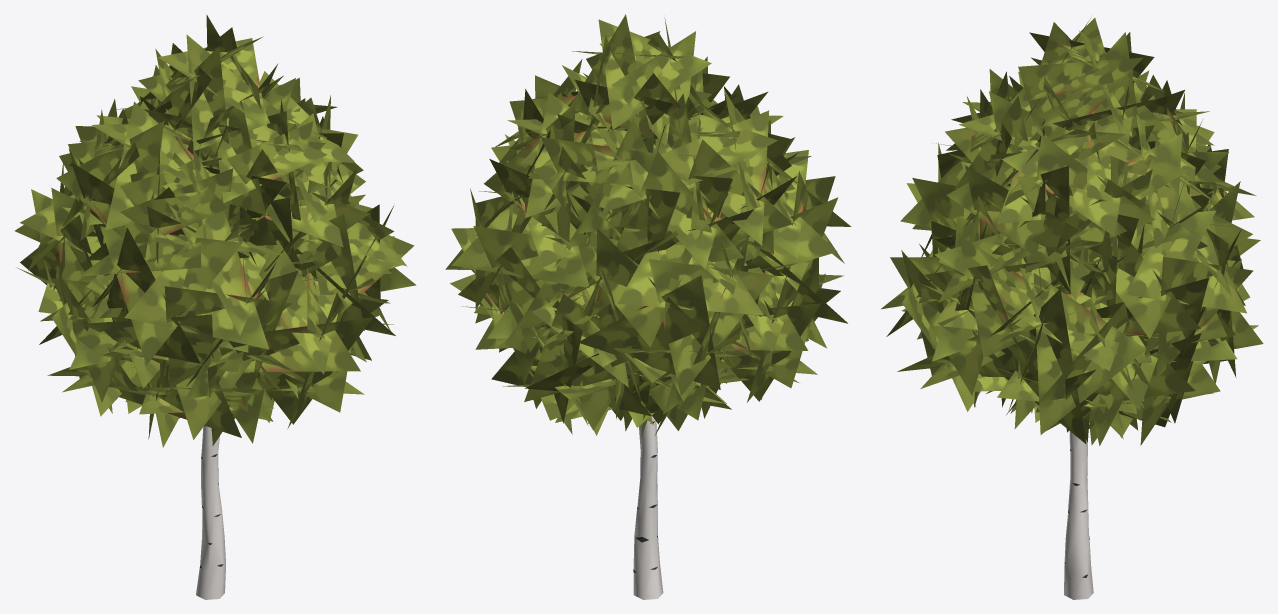
The model's file is Birch_Tree_3.fbx.
3 views of the same model, side by side, from view 1: azimuth 30°, elevation 25°; view 2: azimuth 150°, elevation 25°; view 3: azimuth 270°, elevation 25° (orthographic). The views are drawn at different scales.
Parts seen in each view (by area): view 1: Birch_Tree_3; view 2: Birch_Tree_3; view 3: Birch_Tree_3.
Part boxes in pixels (bbox=[...]): Birch_Tree_3: bbox=[15, 14, 416, 599]; Birch_Tree_3: bbox=[445, 14, 851, 599]; Birch_Tree_3: bbox=[881, 18, 1263, 599].
Size of the model in its own units: 520 by 783 by 474.
2 materials, 2 textured.
